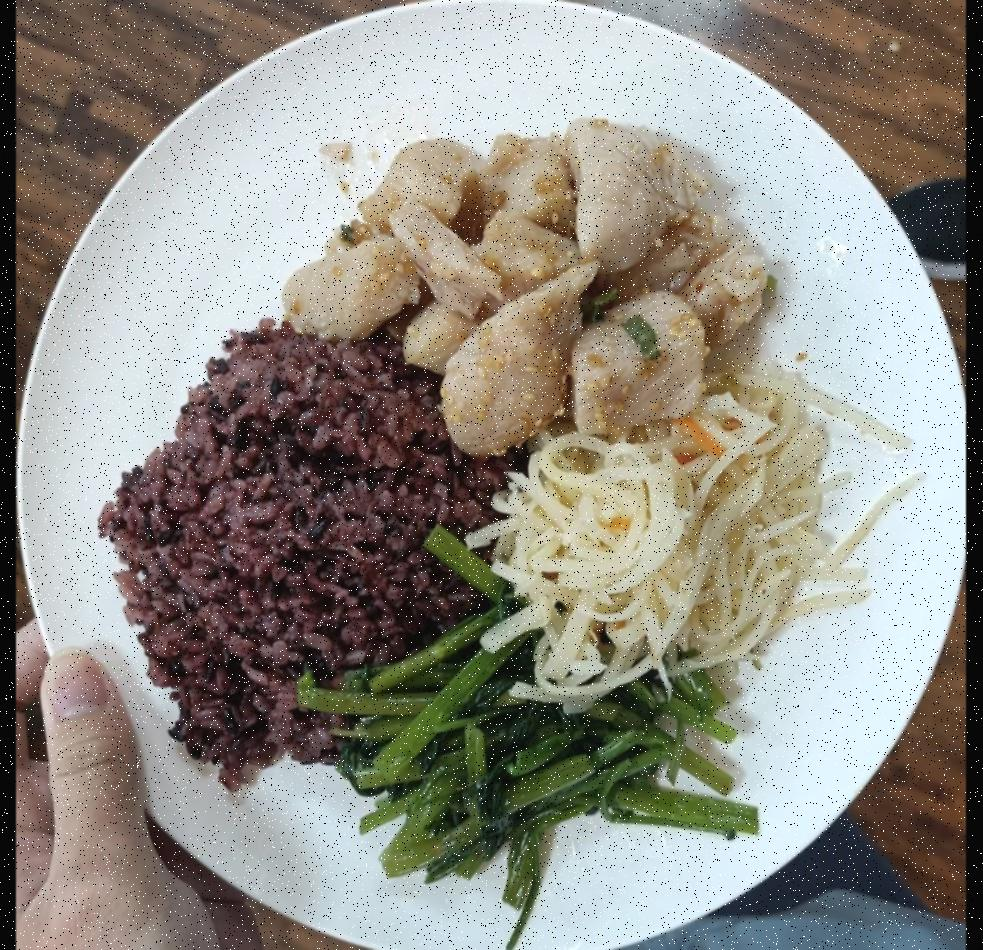big fried chicken leg: (28, 0, 966, 950)
braised fish: (105, 328, 476, 768)
braised fish fillet: (341, 622, 761, 901), (491, 393, 827, 698)
braised pork: (287, 121, 766, 443)
